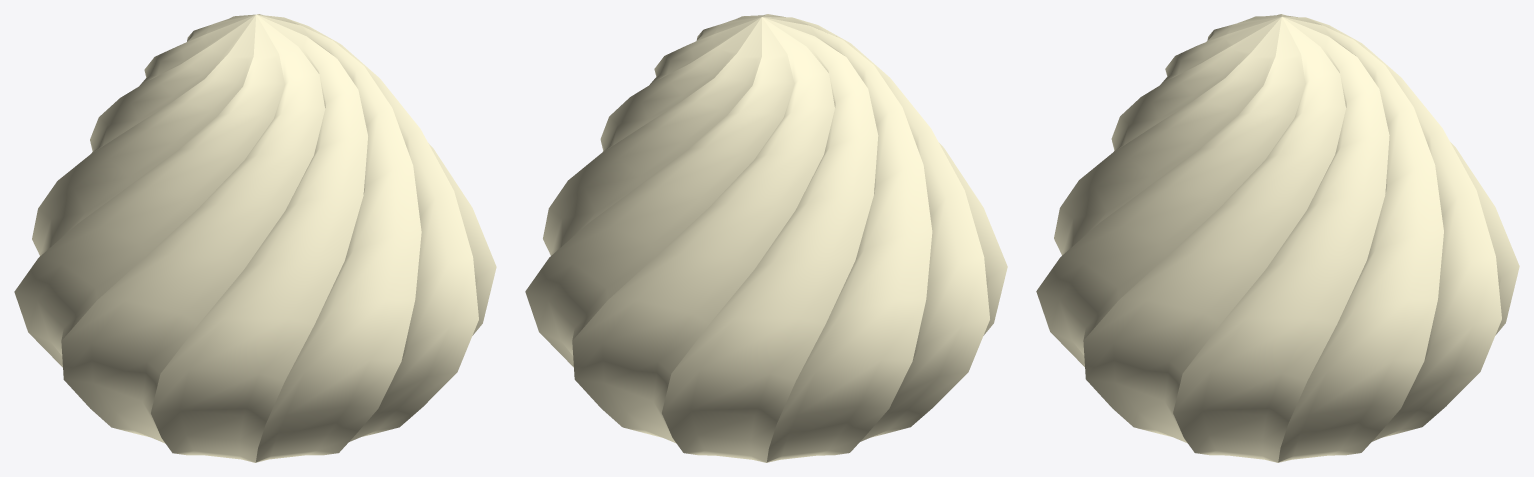
The model's file is Ice Cream Spiral B White.fbx.
3 renders of one model, left to right at view 1: azimuth 30°, elevation 25°; view 2: azimuth 150°, elevation 25°; view 3: azimuth 270°, elevation 25°, orthographic.
Visible parts, largest first — view 1: Ice Cream Spiral B White; view 2: Ice Cream Spiral B White; view 3: Ice Cream Spiral B White.
Part boxes in pixels (left/top/right/bottom): Ice Cream Spiral B White: left=14, top=14, right=496, bottom=462; Ice Cream Spiral B White: left=525, top=14, right=1007, bottom=462; Ice Cream Spiral B White: left=1036, top=14, right=1519, bottom=462.
Size of the model in its own units: 0.4173 by 0.3732 by 0.4173.
